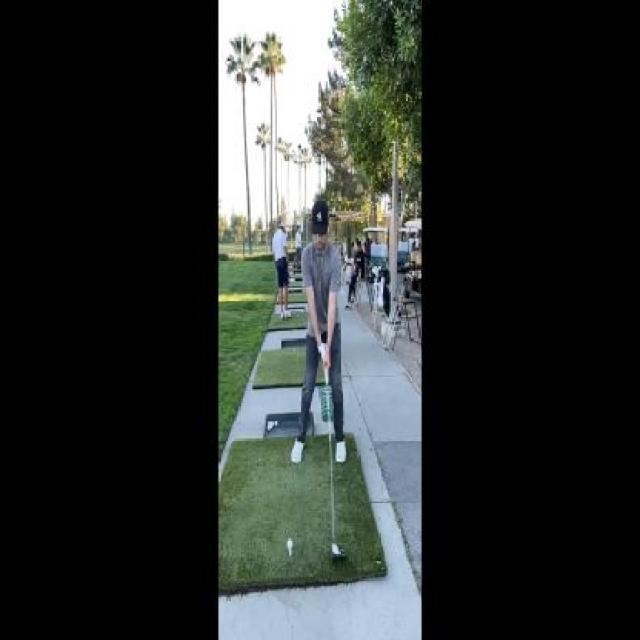club head: (329, 536, 348, 564)
